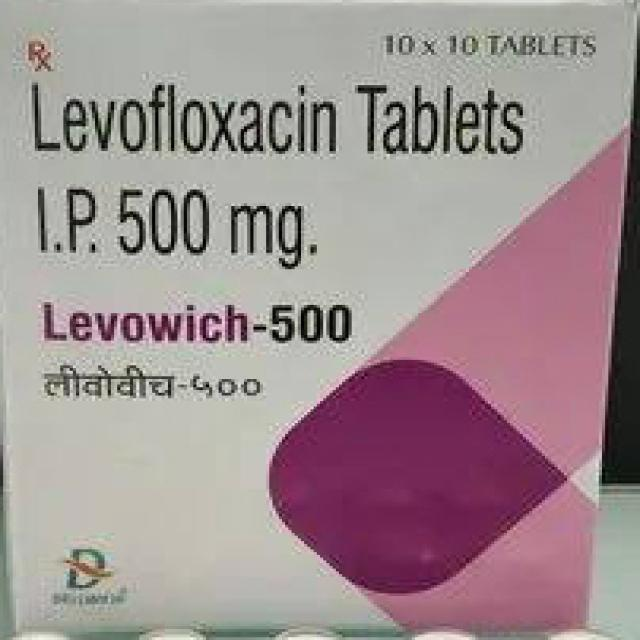drug-name: (36, 298, 357, 346)
